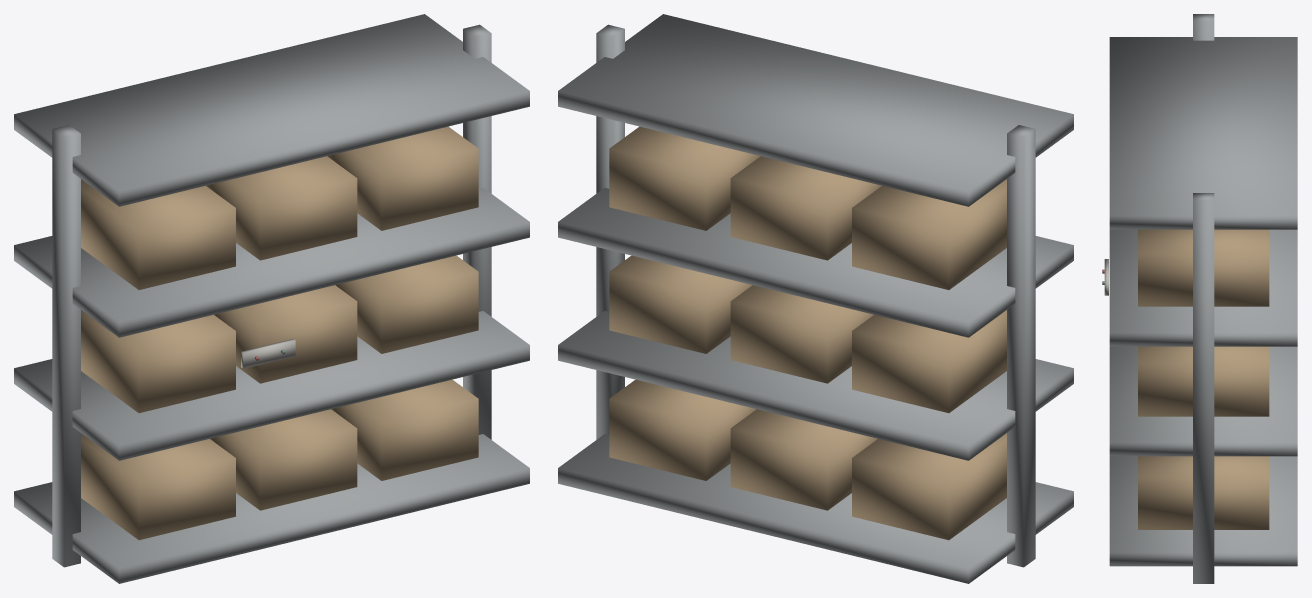
Rendered from warehouse_pallet_rack__deep.glb.
3 renders of one model, left to right at view 1: azimuth 30°, elevation 25°; view 2: azimuth 150°, elevation 25°; view 3: azimuth 270°, elevation 25°, orthographic. The views are drawn at different scales.
Parts seen in each view (by area): view 1: world; view 2: world; view 3: world.
Boxes of the visible parts, x1,y1,x2,y2 form: world: [14, 14, 529, 583]; world: [558, 14, 1073, 583]; world: [1102, 14, 1297, 583].
Bounding box in the file's own units: 2.29 × 2.2 × 1.01.
